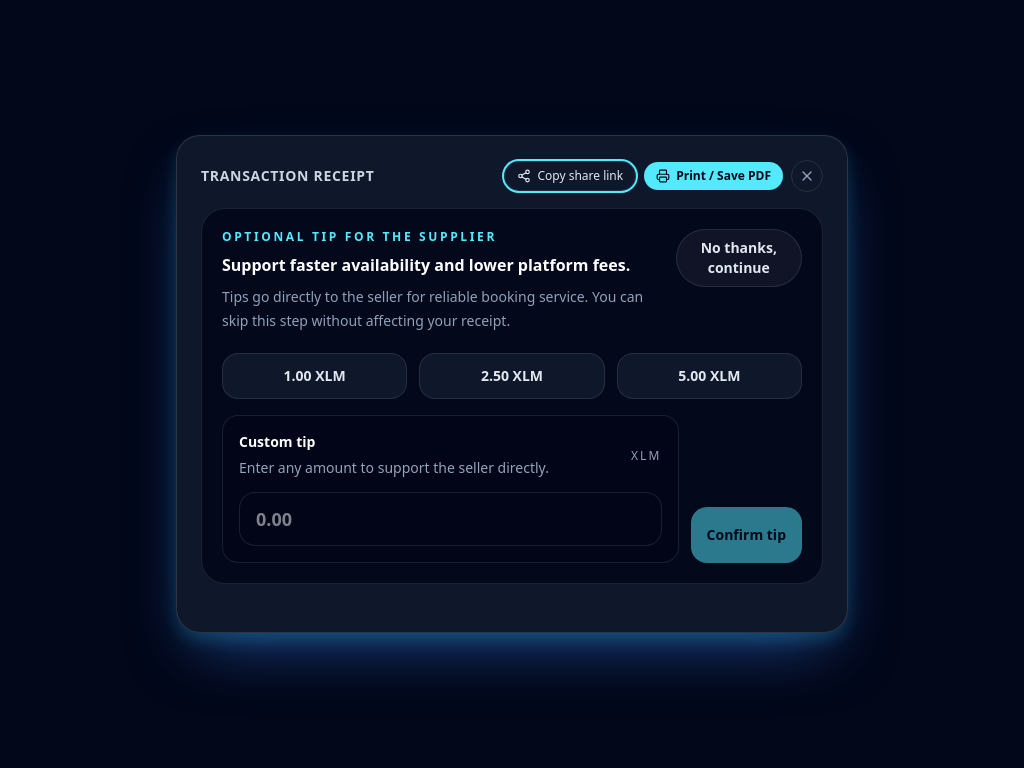
ReceiptModal › allows skipping the tip prompt
Click the button "No thanks, continue" at (739, 258), box [676,229,802,287]
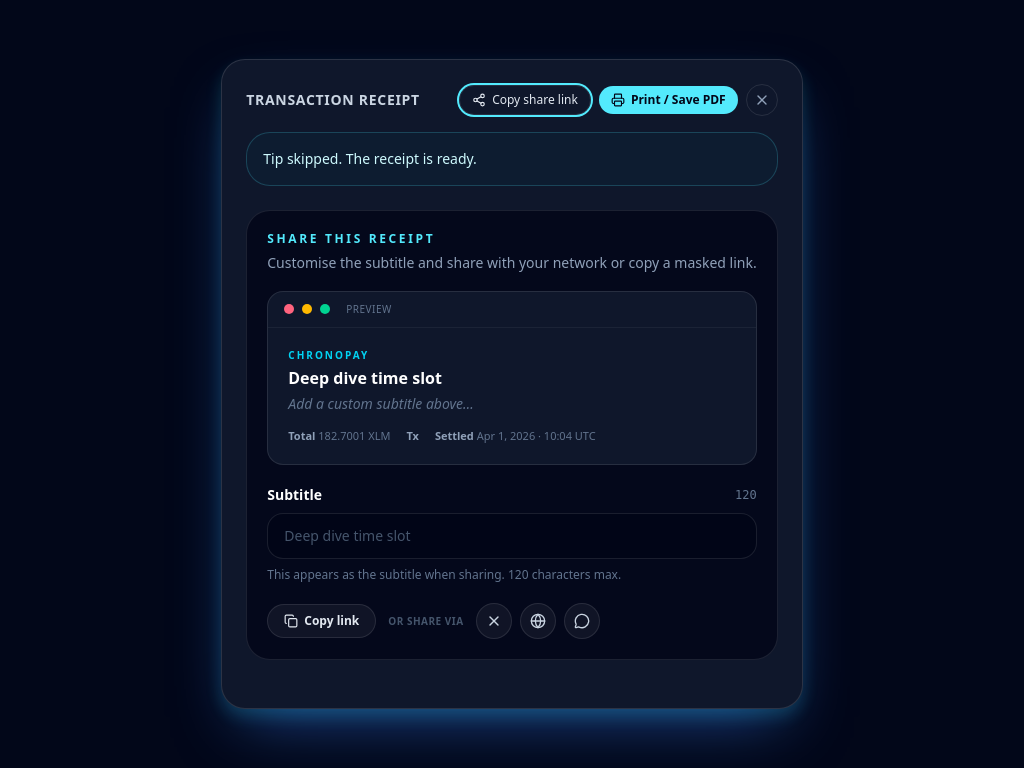
expect the text "Tip skipped. The receipt is ready." is shown: met, box [246,132,778,186]
expect the text "Optional tip for the supplier" is gone: met
